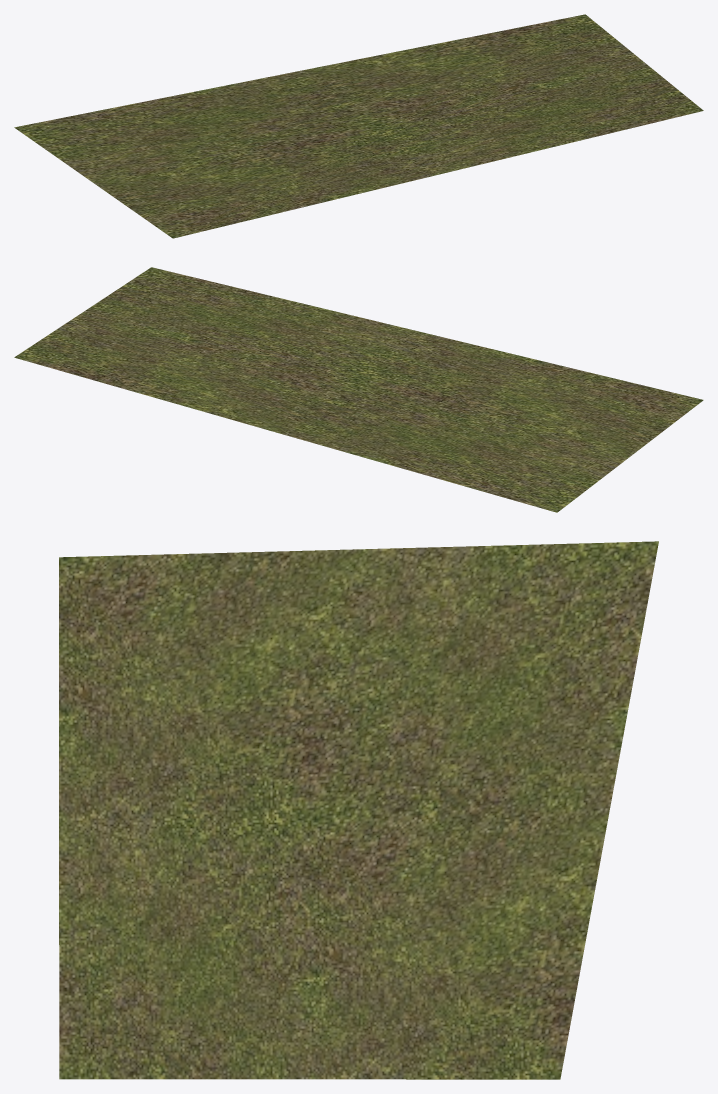
The picture shows the model from 3 angles, top to bottom: view 1: azimuth 30°, elevation 25°; view 2: azimuth 150°, elevation 25°; view 3: azimuth 270°, elevation 25°; orthographic projection. The views are drawn at different scales.
Size of the model in its own units: 13.48 by 0.1268 by 6.41.
1 material, 1 textured.
